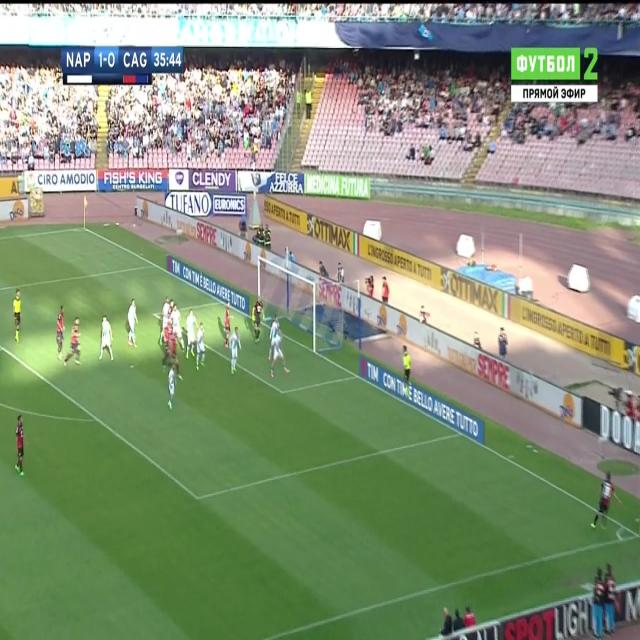Goalkeeper: (250, 296, 265, 346)
Player: (590, 471, 625, 534), (165, 333, 188, 386), (269, 328, 290, 384), (62, 314, 82, 370), (97, 313, 116, 364), (170, 300, 184, 363), (126, 295, 140, 353), (229, 325, 244, 377), (54, 304, 67, 363), (195, 320, 208, 376), (158, 296, 172, 346), (15, 413, 25, 479), (267, 314, 280, 364), (185, 305, 196, 363), (221, 300, 233, 352), (165, 365, 177, 412)
Referee: (399, 344, 415, 404), (10, 286, 24, 348)
